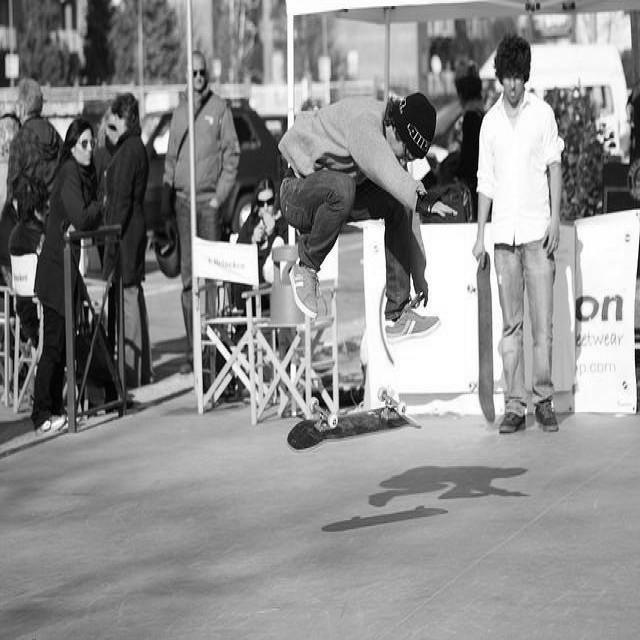vehicle: (140, 105, 289, 233), (435, 101, 465, 149)
